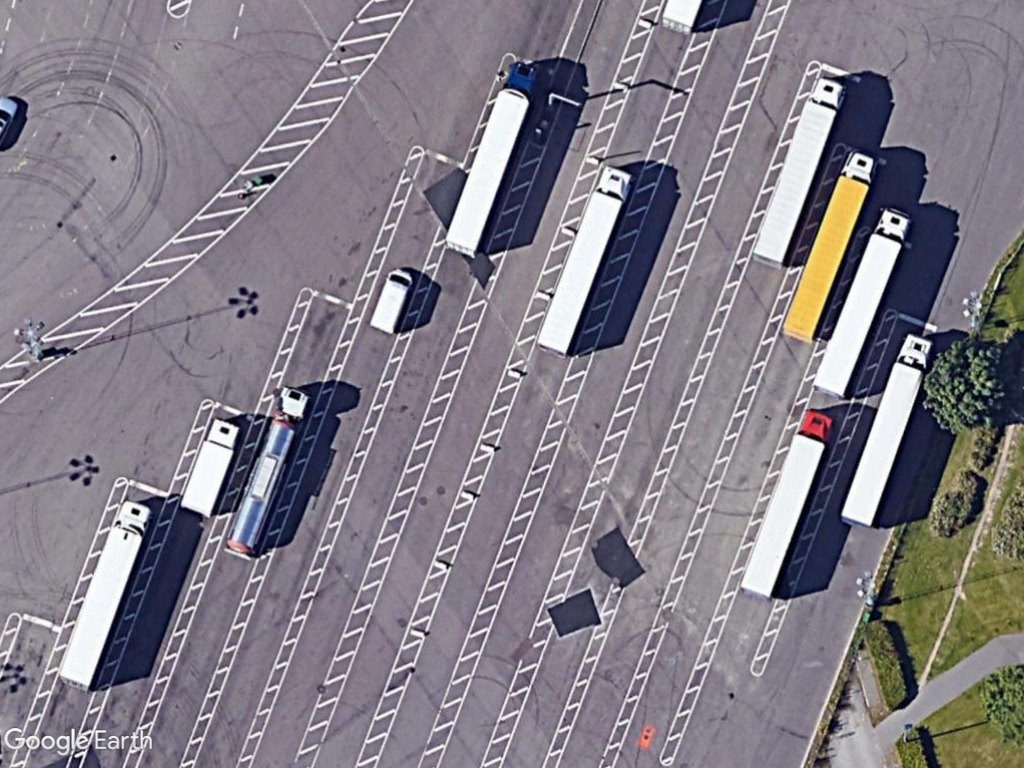longvehicle: (437, 54, 542, 264), (526, 163, 633, 364), (773, 149, 879, 350), (835, 330, 935, 531), (808, 204, 912, 396), (745, 74, 846, 270), (740, 405, 838, 599)
truck: (49, 498, 151, 693), (177, 413, 246, 524)
van: (364, 261, 417, 337)
